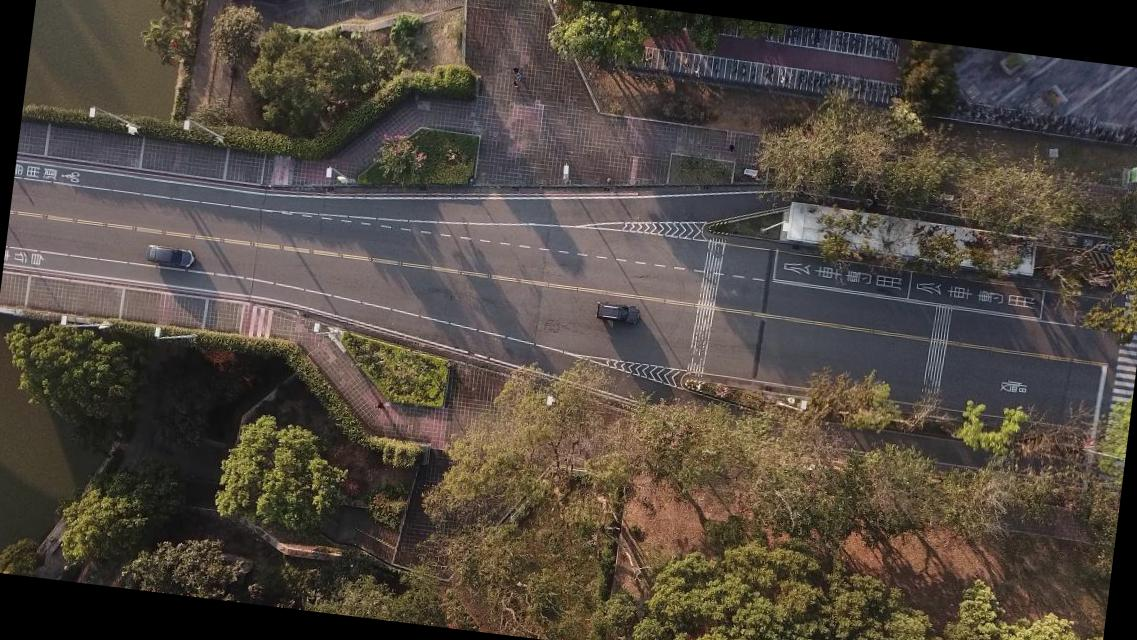vehicle: (145, 243, 195, 268), (594, 302, 639, 326)
